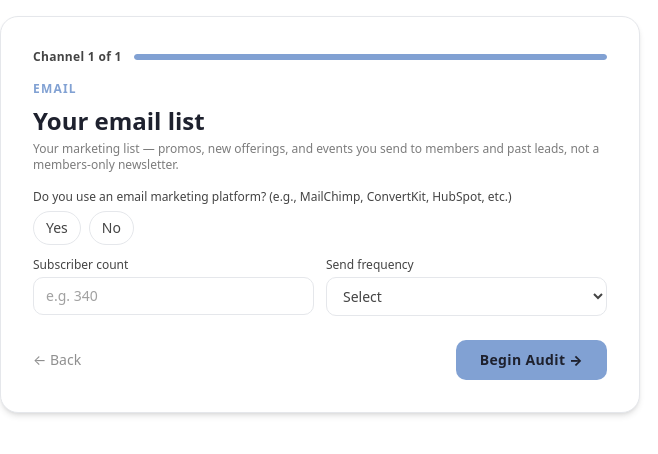
Test: Channel Details email gating UI › blocks proceeding and shows an error when the gating question is unanswered
Click the button "Begin Audit →" at [531, 360], box [456, 340, 607, 380]
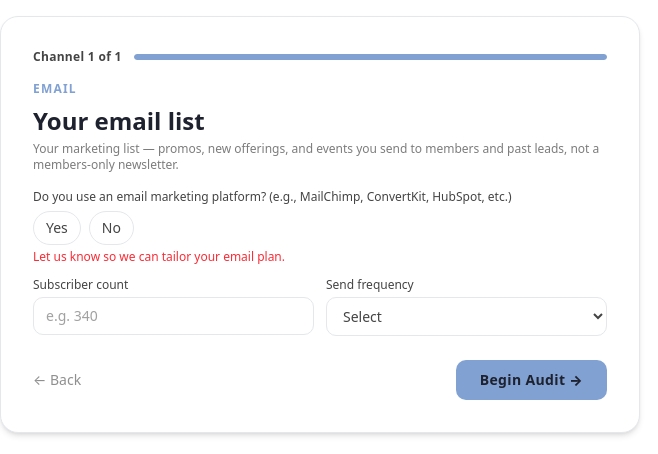
expect the text "Let us know so we can tailor your email plan." is shown: met, box [33, 248, 285, 265]
